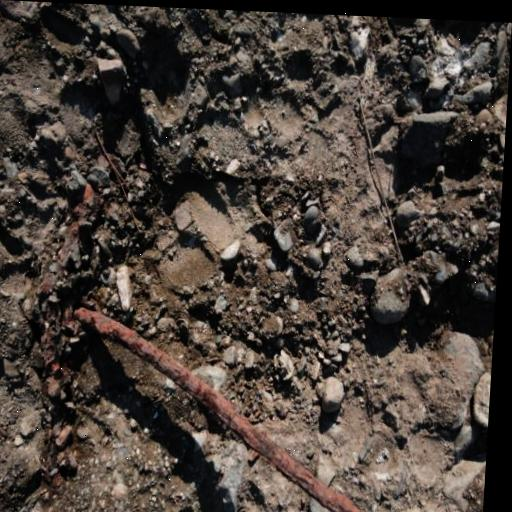exposed_rebar: (74, 307, 363, 512)
